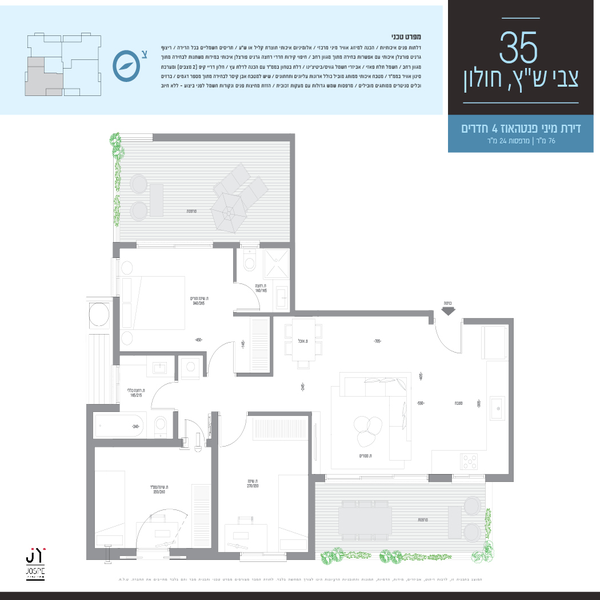door: (217, 404, 250, 450), (433, 318, 469, 360), (147, 380, 181, 413), (207, 337, 236, 375), (181, 416, 211, 450), (231, 282, 262, 311)
room: (308, 308, 517, 481), (86, 439, 219, 560), (212, 410, 316, 559), (107, 240, 237, 357), (231, 237, 296, 317)
wall: (85, 404, 96, 560), (289, 136, 297, 318), (233, 311, 431, 318), (153, 134, 294, 143), (507, 326, 515, 480), (210, 413, 218, 558), (308, 413, 315, 558), (92, 438, 181, 447), (465, 317, 514, 325), (115, 294, 120, 366), (119, 351, 206, 355), (269, 314, 274, 376), (428, 472, 454, 482), (211, 240, 238, 249), (260, 241, 288, 249), (232, 244, 237, 284), (234, 372, 268, 377), (110, 241, 134, 248)
window: (327, 472, 425, 484), (138, 242, 208, 254), (239, 553, 289, 563), (109, 256, 122, 290), (140, 548, 167, 564), (455, 470, 484, 483)
